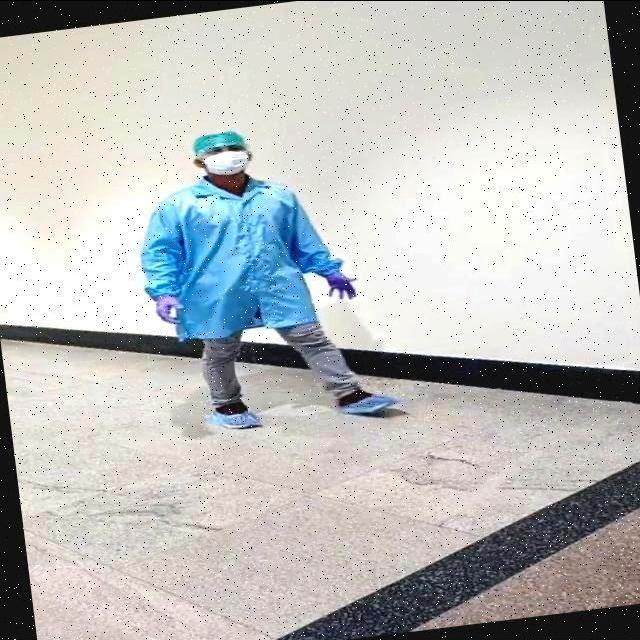gloves: (194, 128, 244, 152)
mask: (202, 148, 250, 180)
